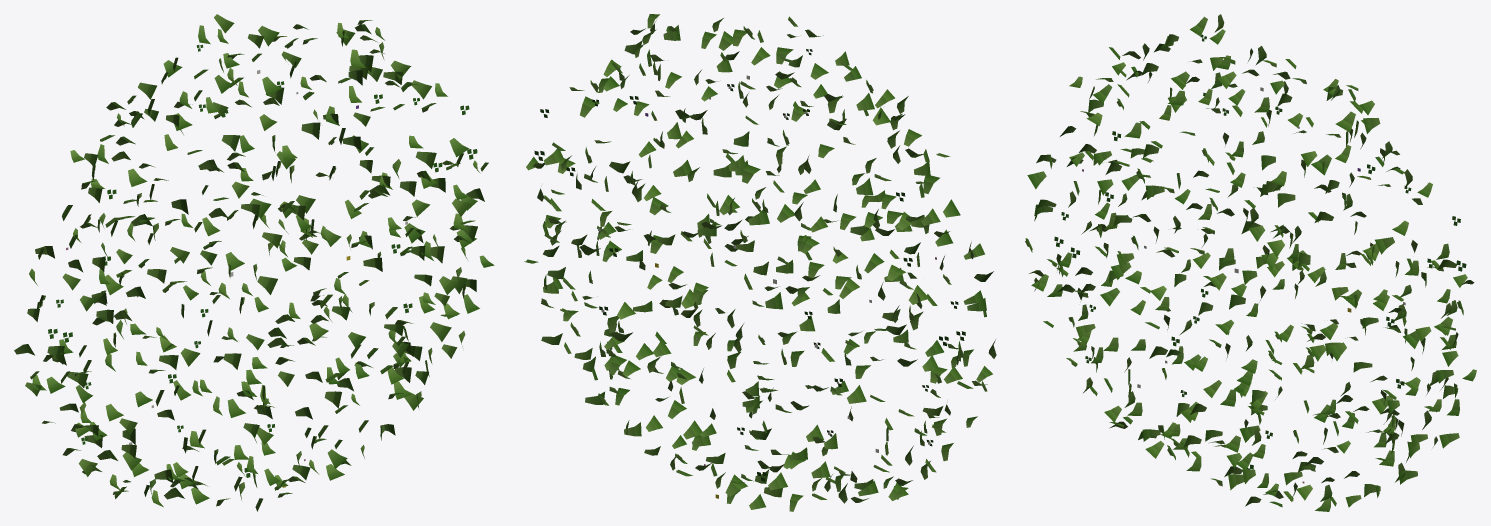
File: Grass_Tile_OpenLawn.glb
3 renders of one model, left to right at view 1: azimuth 30°, elevation 25°; view 2: azimuth 150°, elevation 25°; view 3: azimuth 330°, elevation 25°, orthographic. The views are drawn at different scales.
Visible parts, largest first — view 1: Grass_Tile_OpenLawn; view 2: Grass_Tile_OpenLawn; view 3: Grass_Tile_OpenLawn.
Boxes of the visible parts, box(x1,y1,x2,y2) form: Grass_Tile_OpenLawn: box(14, 14, 494, 511); Grass_Tile_OpenLawn: box(524, 14, 996, 511); Grass_Tile_OpenLawn: box(1025, 14, 1476, 511).
Bounding box in the file's own units: 2.01 × 2.03 × 0.0821.
